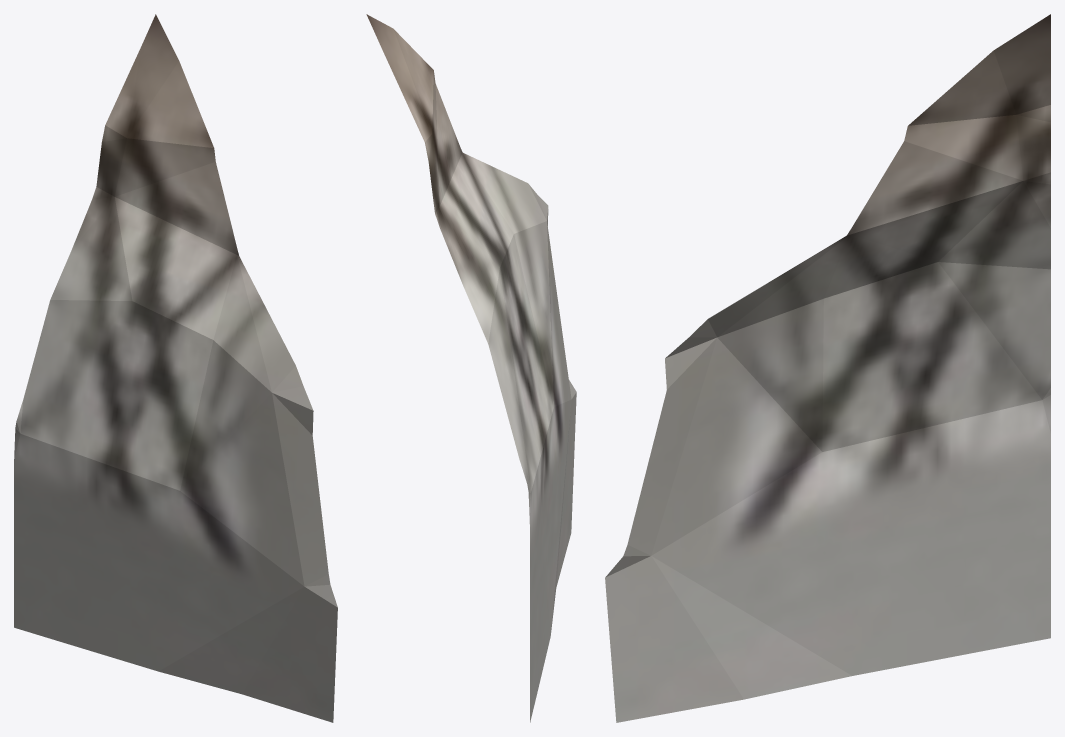
The picture shows the model from 3 angles, left to right: view 1: azimuth 30°, elevation 25°; view 2: azimuth 150°, elevation 25°; view 3: azimuth 270°, elevation 25°; orthographic projection. The views are drawn at different scales.
Bounding box in the file's own units: 0.1295 × 0.5052 × 0.288.
1 material, 1 textured.
